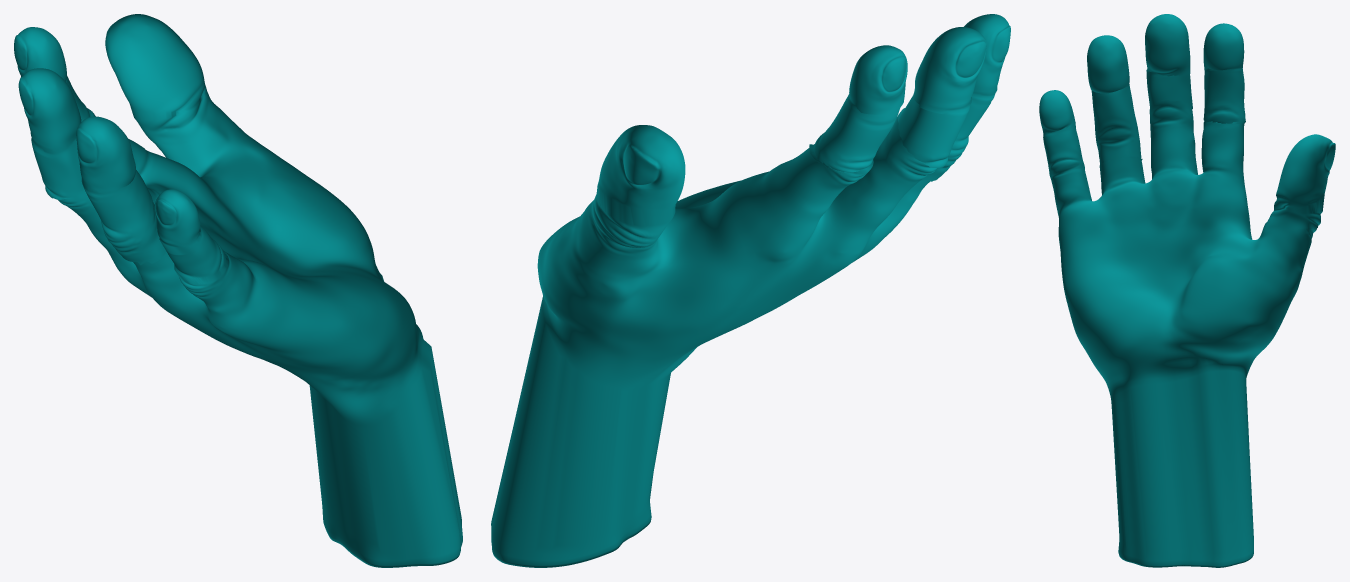
Rendered from hand-2.fbx.
The picture shows the model from 3 angles, left to right: view 1: azimuth 30°, elevation 25°; view 2: azimuth 150°, elevation 25°; view 3: azimuth 270°, elevation 25°; orthographic projection. The views are drawn at different scales.
Visible parts, largest first — view 1: _hand_v1_NEW:_hand_v1; view 2: _hand_v1_NEW:_hand_v1; view 3: _hand_v1_NEW:_hand_v1.
Boxes of the visible parts, bbox=[...] form: _hand_v1_NEW:_hand_v1: bbox=[14, 14, 462, 567]; _hand_v1_NEW:_hand_v1: bbox=[491, 14, 1010, 567]; _hand_v1_NEW:_hand_v1: bbox=[1039, 14, 1335, 567].
Size of the model in its own units: 16.73 by 21.01 by 13.75.
